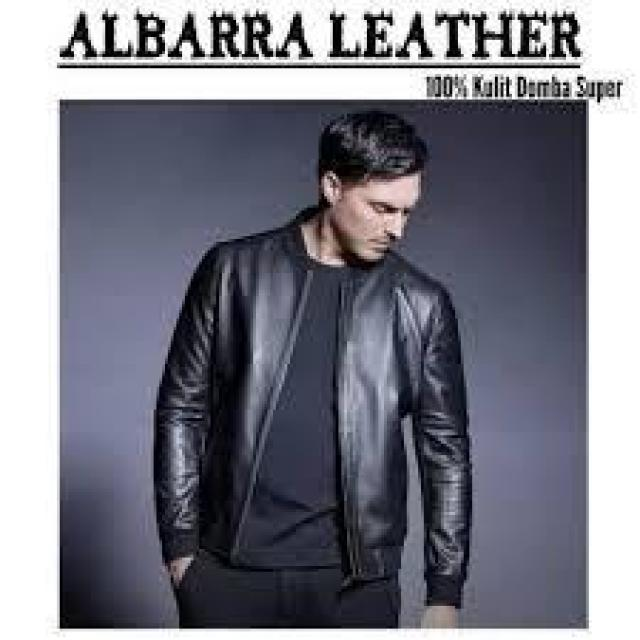jacket: (146, 209, 476, 607)
